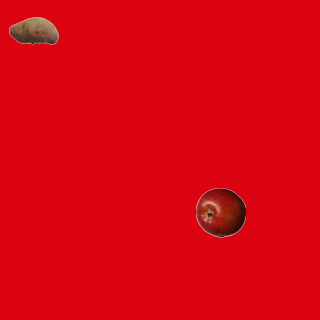Apple Braeburn: (195, 187, 245, 237)
Potato Sweet: (8, 5, 58, 55)
